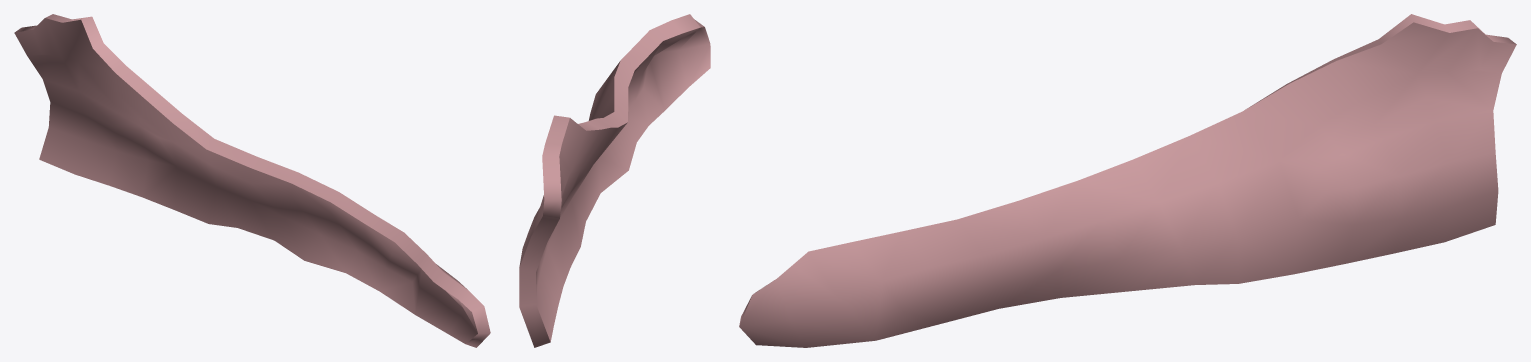
The picture shows the model from 3 angles, left to right: view 1: azimuth 30°, elevation 25°; view 2: azimuth 150°, elevation 25°; view 3: azimuth 270°, elevation 25°; orthographic projection. The views are drawn at different scales.
Parts seen in each view (by area): view 1: ZA_fcaf6b933a689b7b; view 2: ZA_fcaf6b933a689b7b; view 3: ZA_fcaf6b933a689b7b.
Boxes of the visible parts, x1=… form: ZA_fcaf6b933a689b7b: x1=14, y1=14, x2=490, y2=347; ZA_fcaf6b933a689b7b: x1=519, y1=14, x2=710, y2=347; ZA_fcaf6b933a689b7b: x1=739, y1=14, x2=1516, y2=347.
Size of the model in its own units: 0.0471 by 0.0432 by 0.1267.
